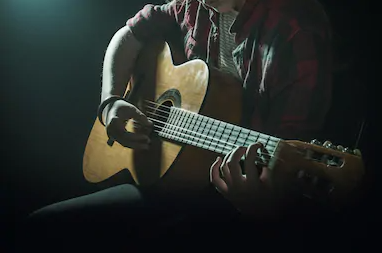fretboard: (161, 105, 281, 158)
